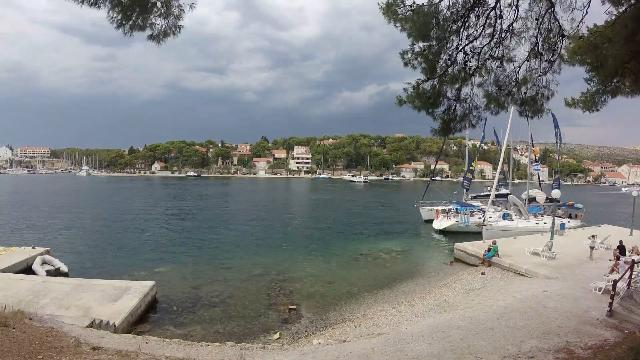speedboat: (344, 172, 372, 188), (182, 166, 204, 180)
